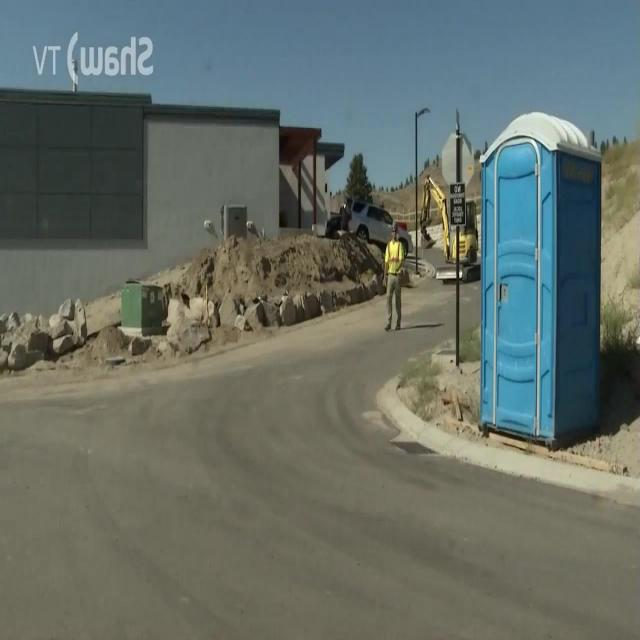Reflective-Jacket: (382, 236, 408, 280)
Safety-Helmet: (388, 220, 402, 239)
